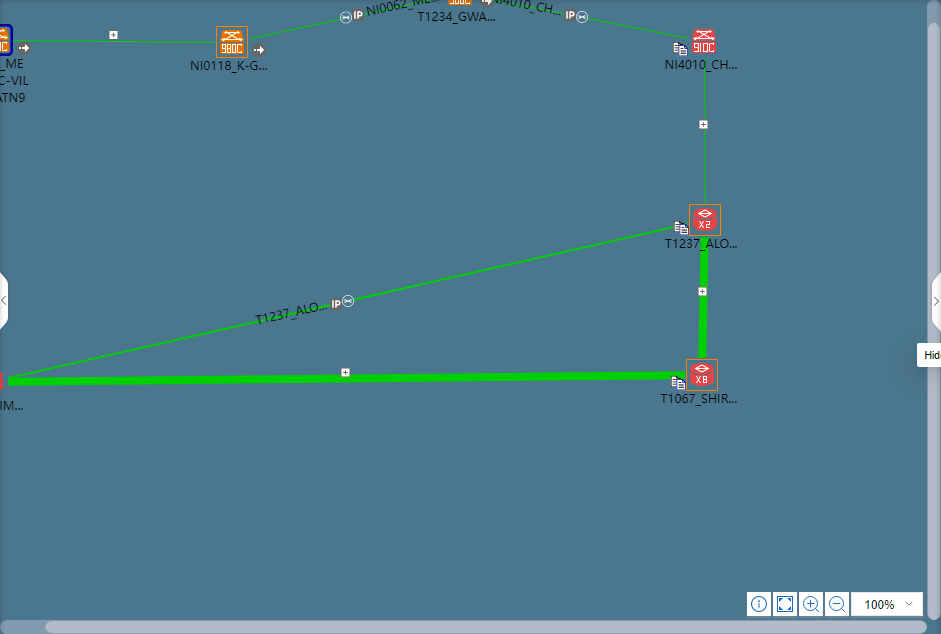ATN_Orange: (219, 29, 244, 55)
ATN_Red: (692, 29, 715, 53)
Link_Green: (8, 225, 673, 379), (8, 371, 685, 387), (250, 0, 442, 42), (491, 0, 688, 40), (698, 237, 709, 359), (14, 39, 215, 44), (703, 58, 708, 203)
Router_Red: (685, 359, 717, 390), (689, 204, 719, 234)
